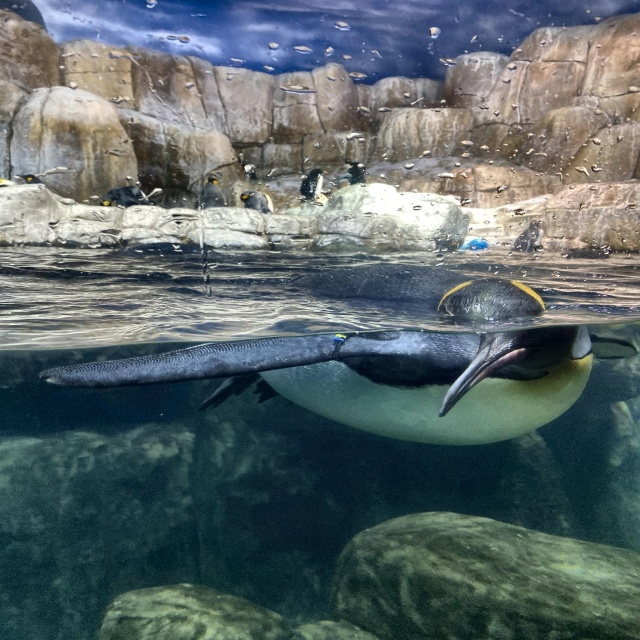penguin: (45, 286, 637, 448), (98, 181, 149, 211), (198, 175, 222, 222), (235, 186, 276, 213), (302, 167, 330, 200), (21, 170, 40, 189)
